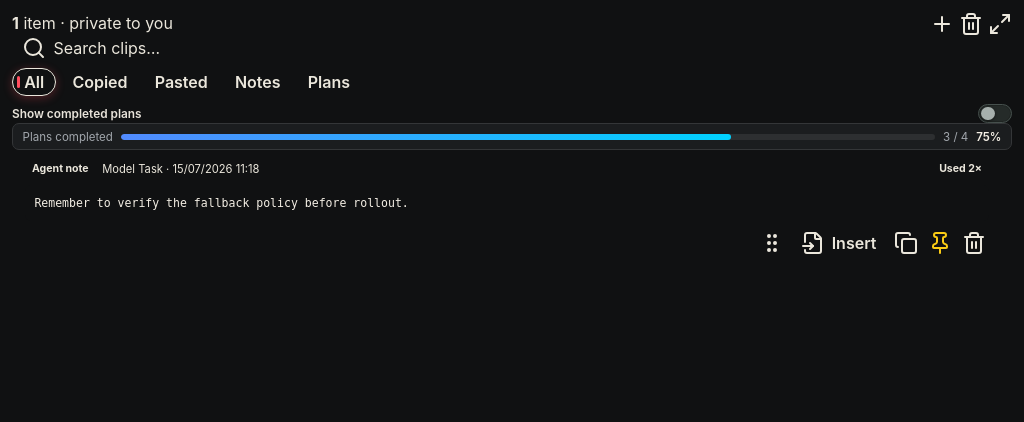
Test case: ClipboardDock › filters saved plans and renders the PLAN badge and title
This screenshot has width=1024, height=422.
Click the button "Plans" at (329, 82), box [297, 68, 361, 96]
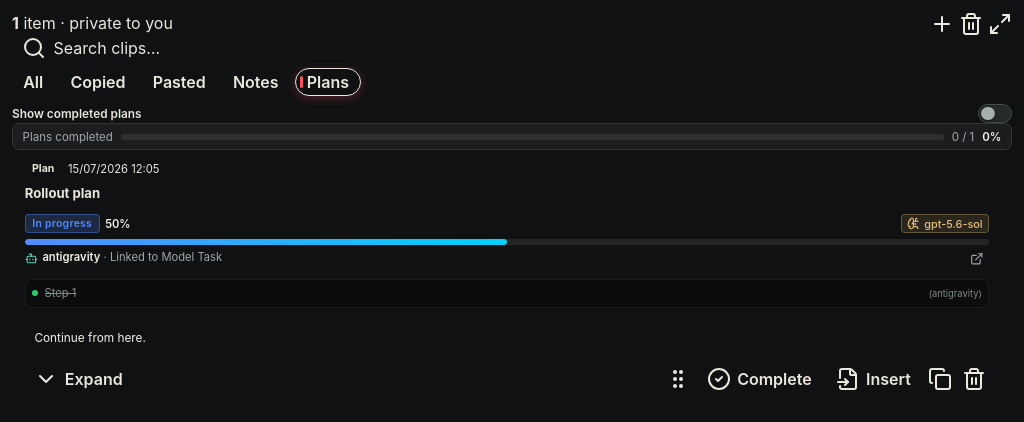
Check: the text "Rollout plan" is shown, box [25, 185, 100, 201]
Check: the text "Plan" is shown, box [32, 162, 54, 175]
Check: the text "(antigravity)" is shown, box [929, 288, 982, 299]
